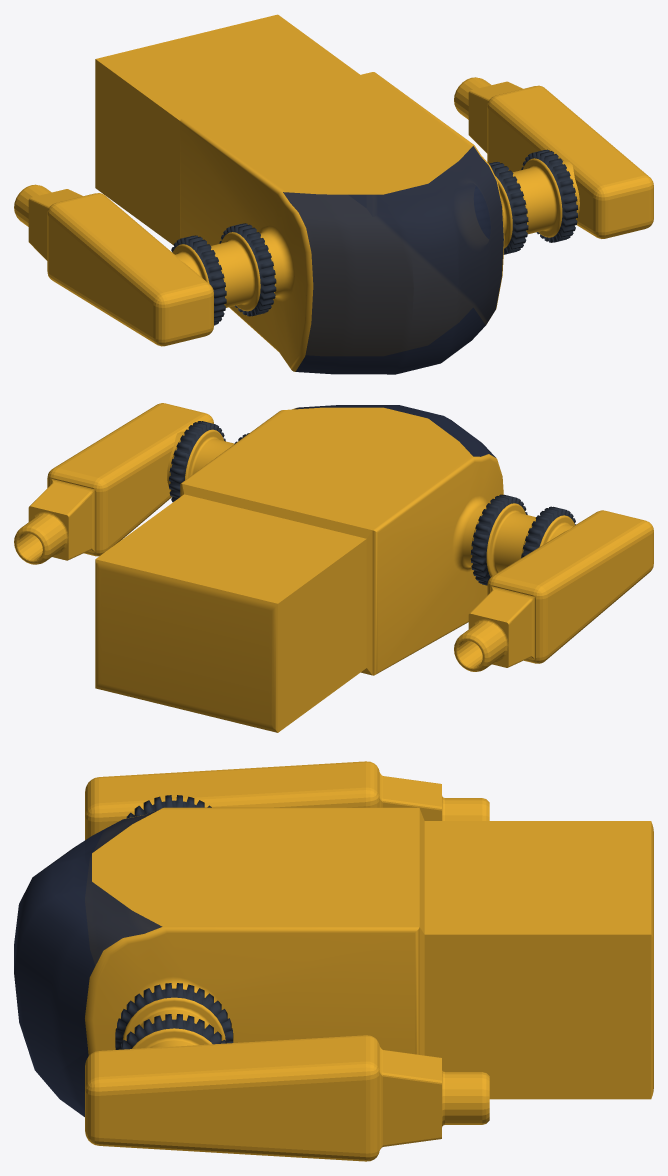
Rendered from MeshUnreal.glb.
3 renders of one model, top to bottom at view 1: azimuth 30°, elevation 25°; view 2: azimuth 150°, elevation 25°; view 3: azimuth 270°, elevation 25°, orthographic. The views are drawn at different scales.
Parts seen in each view (by area): view 1: dsf; view 2: dsf; view 3: dsf.
Boxes of the visible parts, bbox=[...] form: dsf: bbox=[14, 14, 653, 374]; dsf: bbox=[14, 403, 653, 732]; dsf: bbox=[14, 761, 653, 1161].
Bounding box in the file's own units: 6.46 × 2.11 × 5.62.
